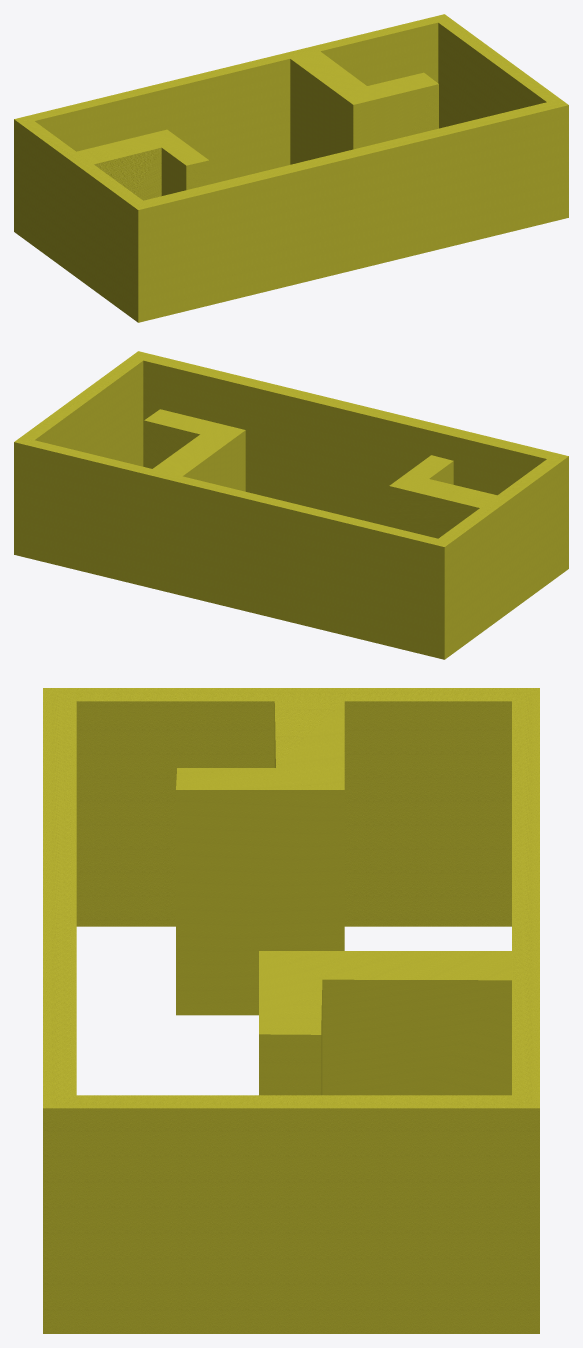
Rendered from Level3.obj.
3 renders of one model, top to bottom at view 1: azimuth 30°, elevation 25°; view 2: azimuth 150°, elevation 25°; view 3: azimuth 270°, elevation 25°, orthographic. The views are drawn at different scales.
Parts seen in each view (by area): view 1: Rectangle01, Line02, Line01; view 2: Rectangle01, Line02, Line01; view 3: Rectangle01, Line01, Line02.
Boxes of the visible parts, x1=… form: Rectangle01: x1=14, y1=14, x2=568, y2=322; Line02: x1=290, y1=51, x2=438, y2=164; Line01: x1=76, y1=129, x2=209, y2=200; Rectangle01: x1=14, y1=351, x2=568, y2=659; Line02: x1=144, y1=409, x2=245, y2=491; Line01: x1=389, y1=455, x2=496, y2=538; Rectangle01: x1=43, y1=688, x2=539, y2=1333; Line01: x1=176, y1=700, x2=344, y2=1015; Line02: x1=259, y1=951, x2=515, y2=1095.
Size of the model in its own units: 8 by 2 by 4.
